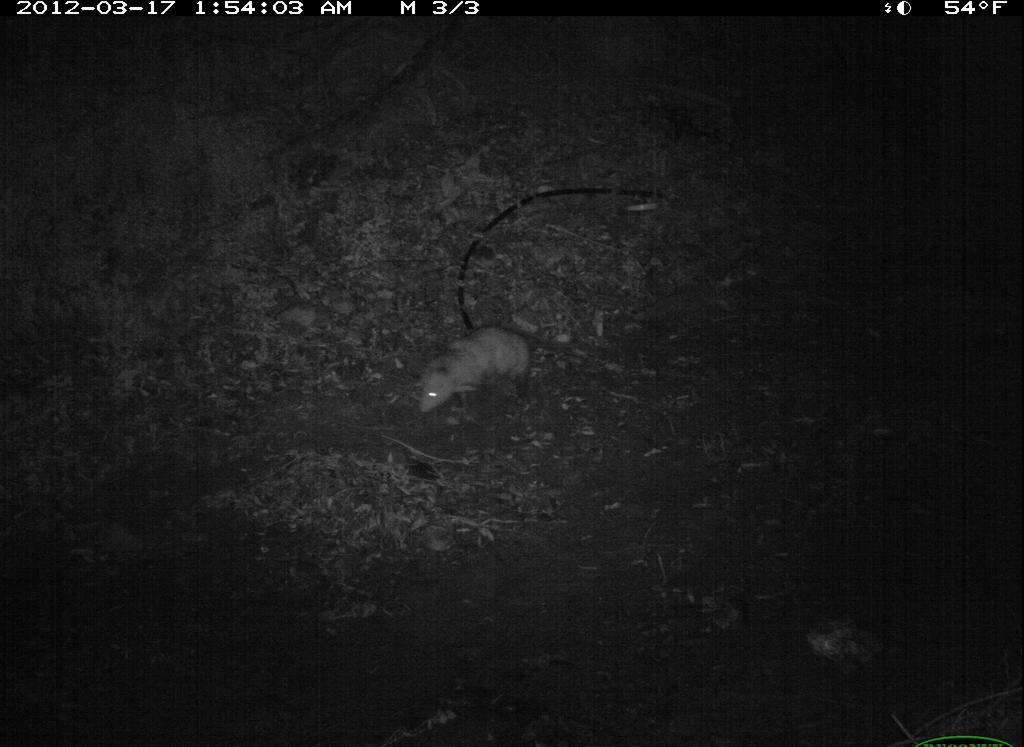opossum: (405, 305, 614, 440)
